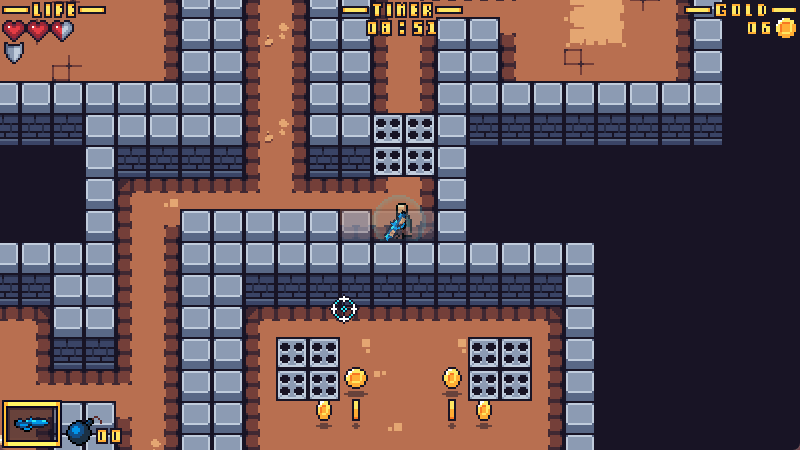aim: (330, 295, 357, 324)
gold: (439, 365, 464, 391), (344, 366, 368, 391), (313, 397, 333, 424), (475, 398, 494, 424), (349, 397, 362, 426), (446, 396, 457, 425)
gold_counter: (686, 1, 800, 40)
health-1: (1, 18, 77, 42)
player: (383, 202, 414, 245)
shield: (2, 41, 26, 67)
timer: (343, 1, 463, 36)
trap_off: (468, 337, 532, 401), (374, 114, 435, 176), (277, 338, 337, 399)
